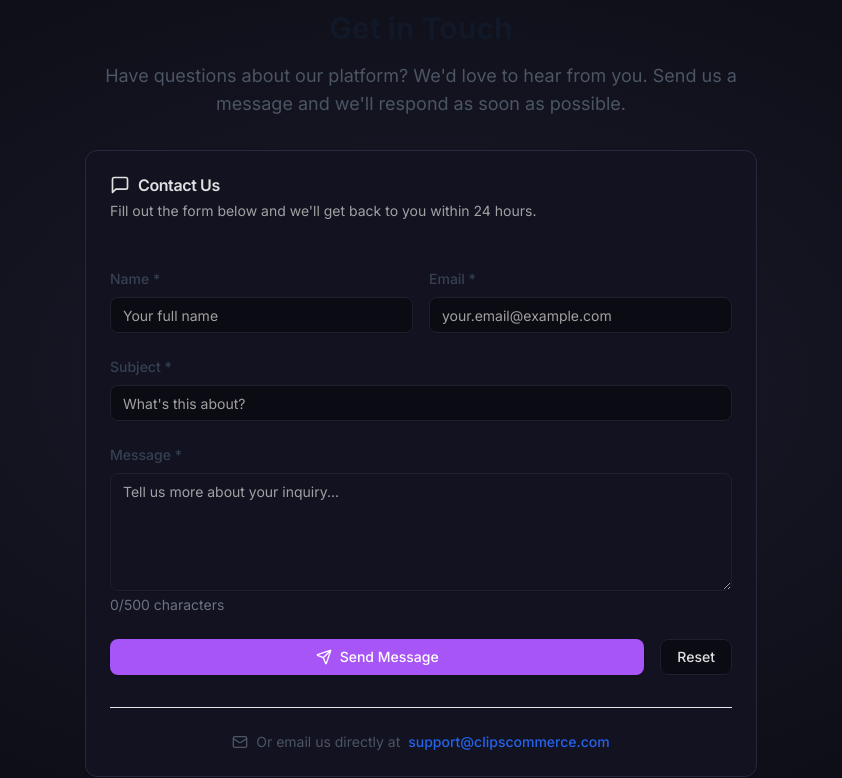
Test: ContactSection › Form Interaction › should reset form when reset button is clicked
Fill out the form
Type "John Doe" into the field labelled "Name *".
click(262, 315); type("John Doe")  # box [110,297,413,333]
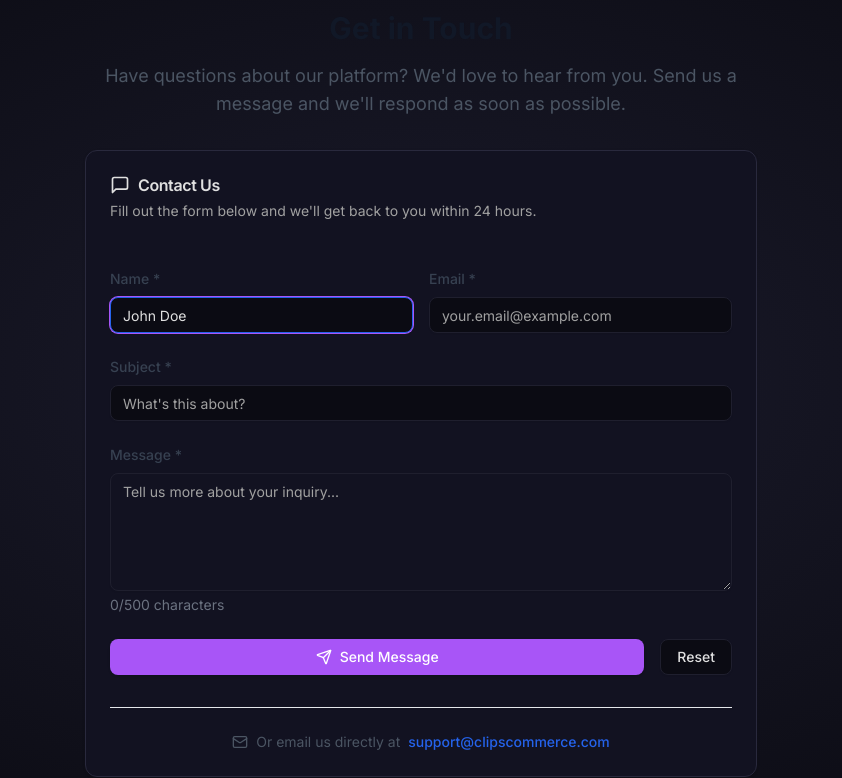
Type "john@example.com" into the field labelled "Email *".
click(580, 315); type("john@example.com")  # box [429,297,732,333]
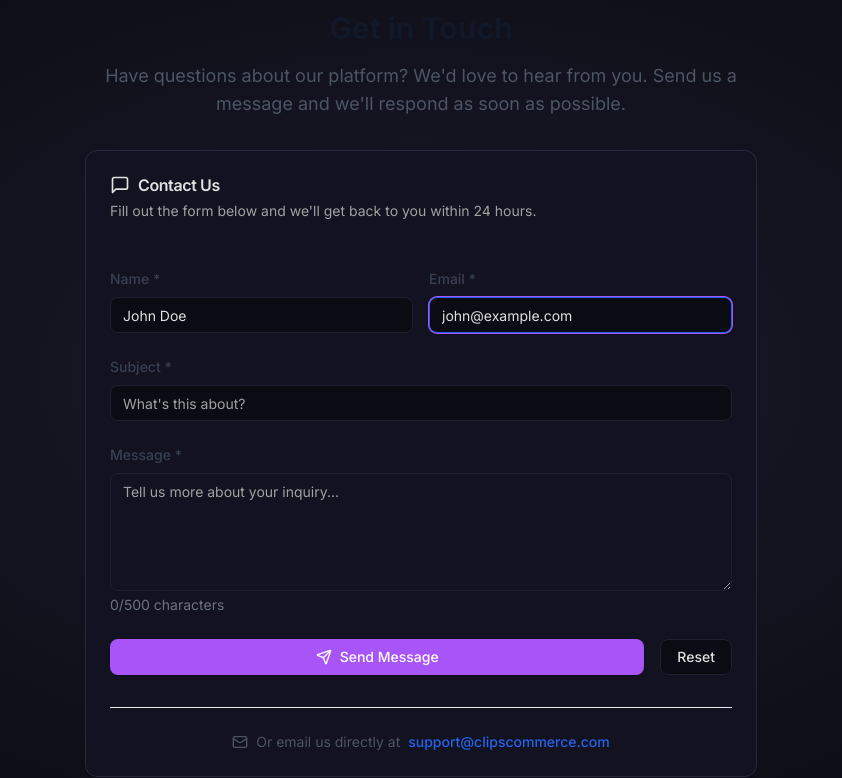
Click reset
Click the button "Reset".
click(696, 657)  # box [660,639,732,675]
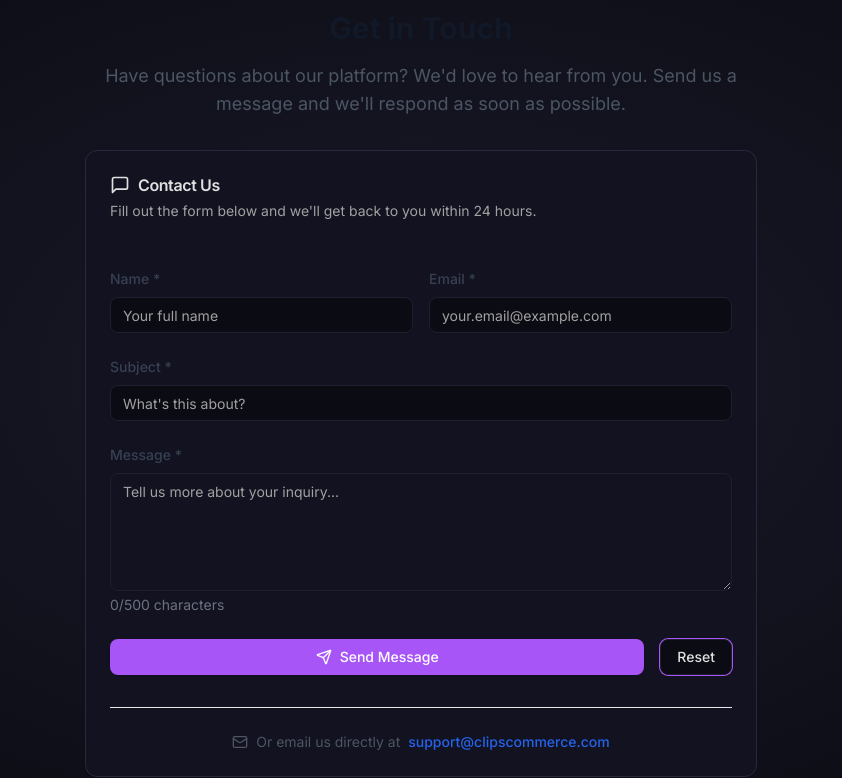
Result: the field labelled "Name *" is empty at [110,297,413,333]
Result: the field labelled "Email *" is empty at [429,297,732,333]
